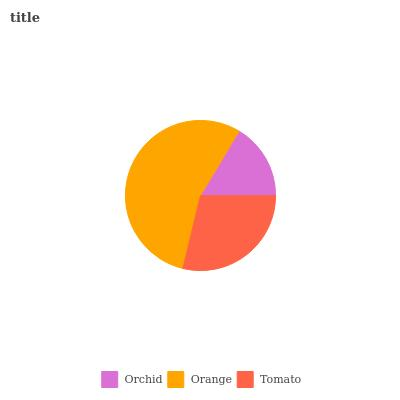legend: (91, 362, 309, 398)
sector: (124, 119, 241, 270), (183, 194, 277, 272), (199, 129, 276, 196)
